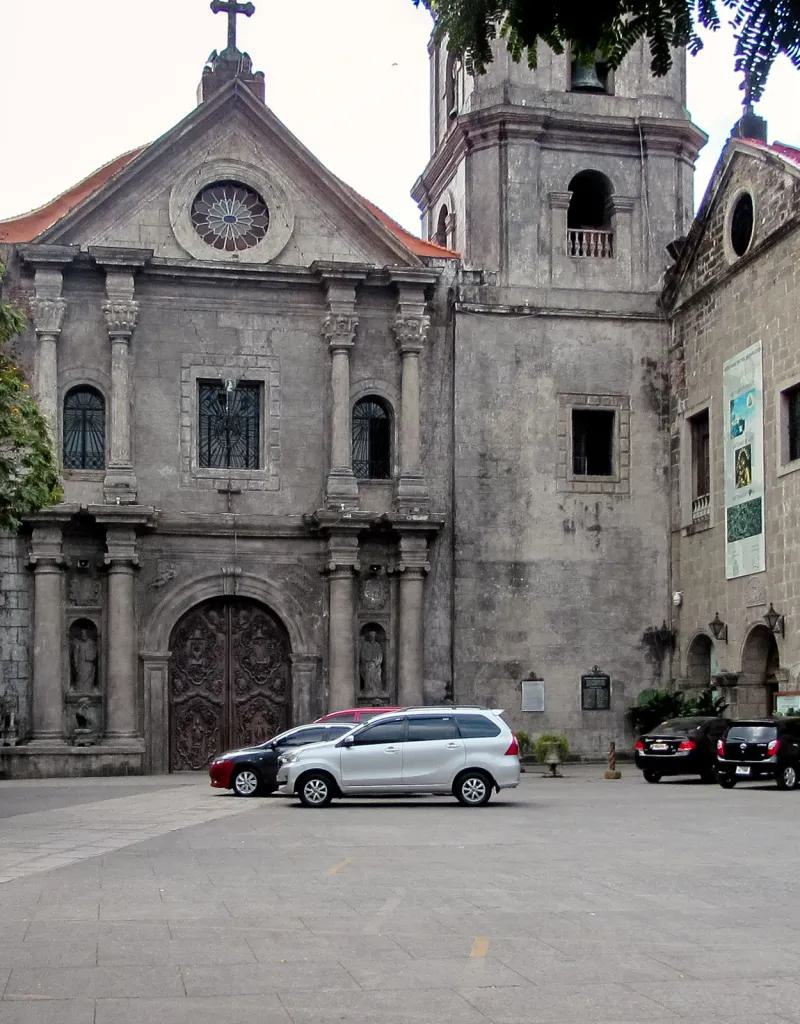san_agustin_church_intramuros_manila: (4, 1, 702, 754)
